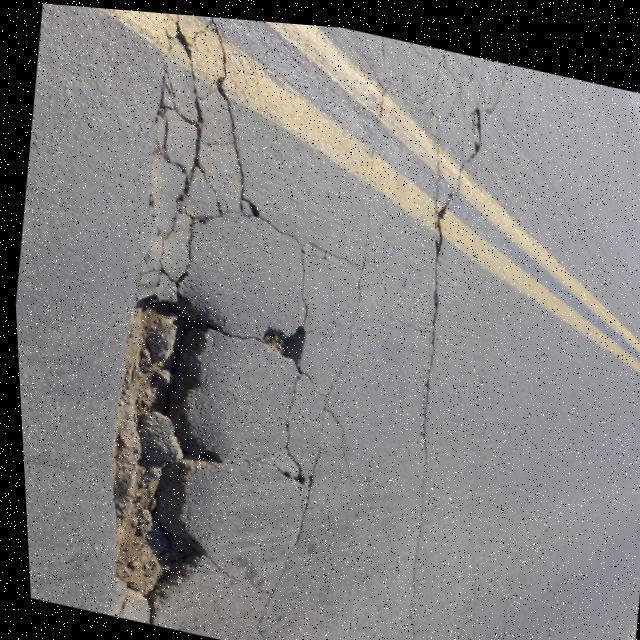Pothole: (112, 295, 221, 599)
